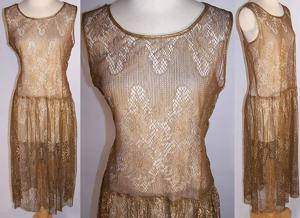C_dress: (2, 2, 77, 213), (236, 1, 300, 214)
C_tank top: (84, 1, 232, 196)
